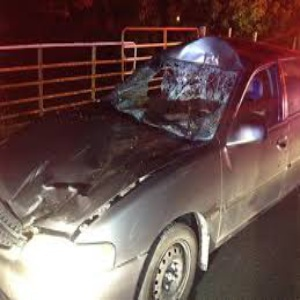bonnet: (19, 146, 111, 228)
